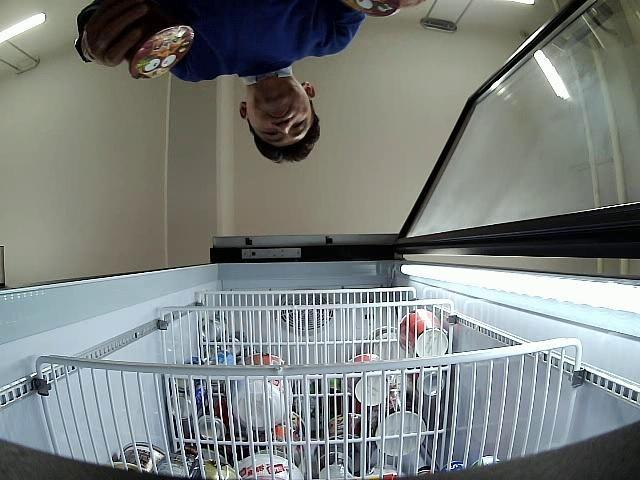06_nuguri_S: (124, 25, 194, 80)
